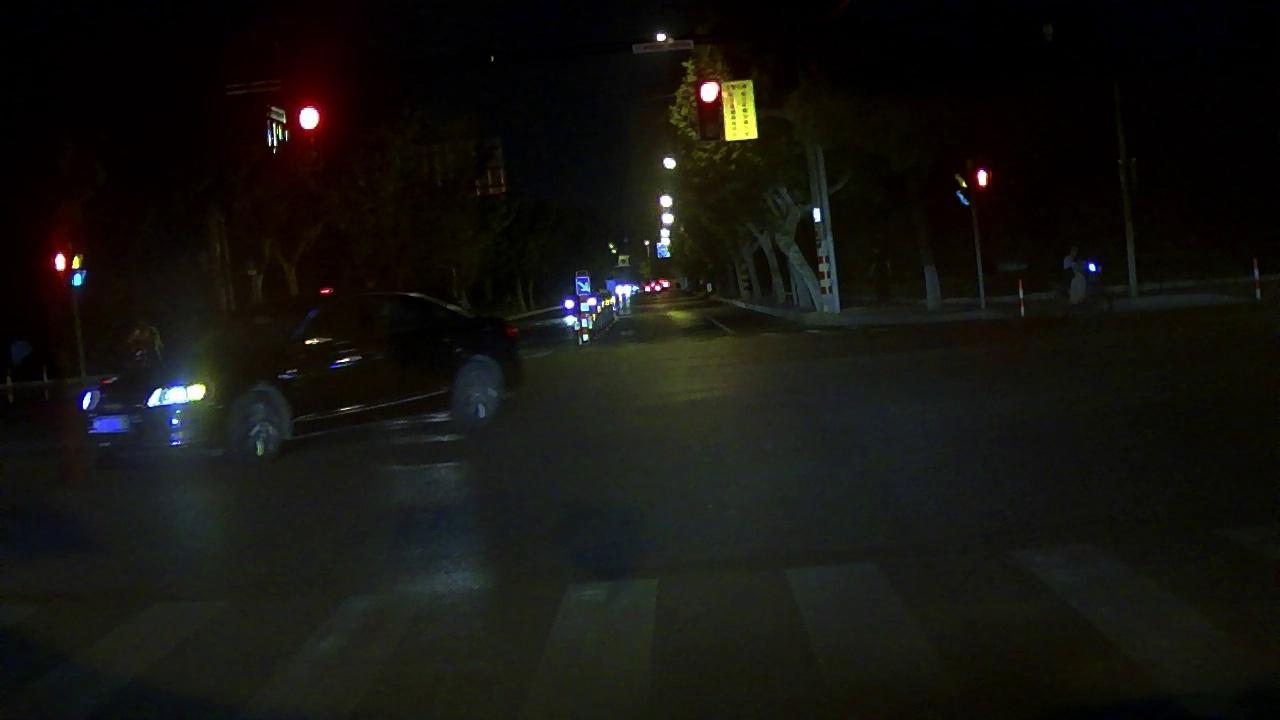traffic_light: (290, 96, 327, 138), (697, 75, 726, 106)
